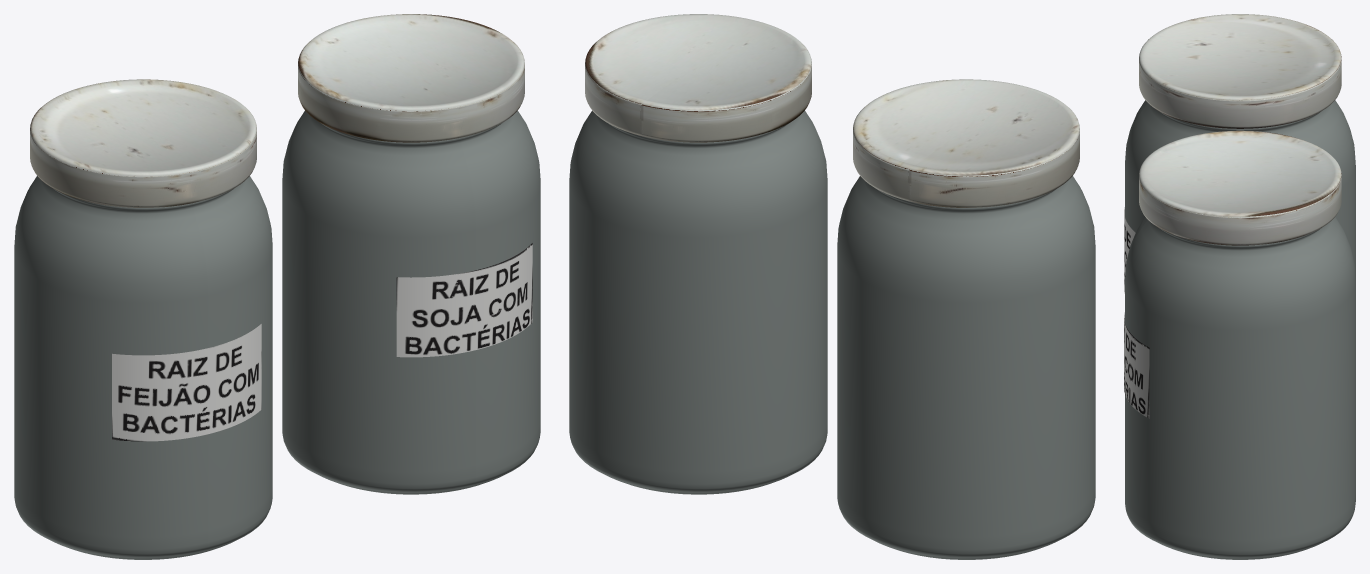
Rendered from raizes_12_05_web.glb.
3 renders of one model, left to right at view 1: azimuth 30°, elevation 25°; view 2: azimuth 150°, elevation 25°; view 3: azimuth 270°, elevation 25°, orthographic. The views are drawn at different scales.
Visible parts, largest first — view 1: Vidro_Pote_Raiz_Soja, Vidro_Pote_Raiz_Feijao, Tampa_Pote_Raiz_Soja, Tampa_Pote_Raiz_Feijao, Rotulo_Pote_Raiz_Feijao, Rotulo_Pote_Raiz_Soja; view 2: Vidro_Pote_Raiz_Soja, Vidro_Pote_Raiz_Feijao, Tampa_Pote_Raiz_Soja, Tampa_Pote_Raiz_Feijao; view 3: Vidro_Pote_Raiz_Soja, Tampa_Pote_Raiz_Soja, Tampa_Pote_Raiz_Feijao, Vidro_Pote_Raiz_Feijao, Rotulo_Pote_Raiz_Soja, Rotulo_Pote_Raiz_Feijao.
Boxes of the visible parts, x1,y1,x2,y2 form: Vidro_Pote_Raiz_Soja: (282, 110, 540, 494); Vidro_Pote_Raiz_Feijao: (14, 176, 272, 559); Tampa_Pote_Raiz_Soja: (298, 14, 524, 142); Tampa_Pote_Raiz_Feijao: (30, 79, 256, 207); Rotulo_Pote_Raiz_Feijao: (112, 324, 261, 441); Rotulo_Pote_Raiz_Soja: (396, 243, 532, 357); Vidro_Pote_Raiz_Soja: (569, 110, 827, 494); Vidro_Pote_Raiz_Feijao: (837, 176, 1095, 559); Tampa_Pote_Raiz_Soja: (585, 14, 811, 142); Tampa_Pote_Raiz_Feijao: (853, 79, 1079, 207); Vidro_Pote_Raiz_Soja: (1125, 217, 1355, 559); Tampa_Pote_Raiz_Soja: (1139, 130, 1341, 245); Tampa_Pote_Raiz_Feijao: (1139, 14, 1341, 128); Vidro_Pote_Raiz_Feijao: (1125, 100, 1355, 281); Rotulo_Pote_Raiz_Soja: (1124, 312, 1149, 418); Rotulo_Pote_Raiz_Feijao: (1124, 207, 1135, 293).
Bounding box in the file's own units: 0.1801 × 0.1353 × 0.0822.
10 materials, 5 textured.
